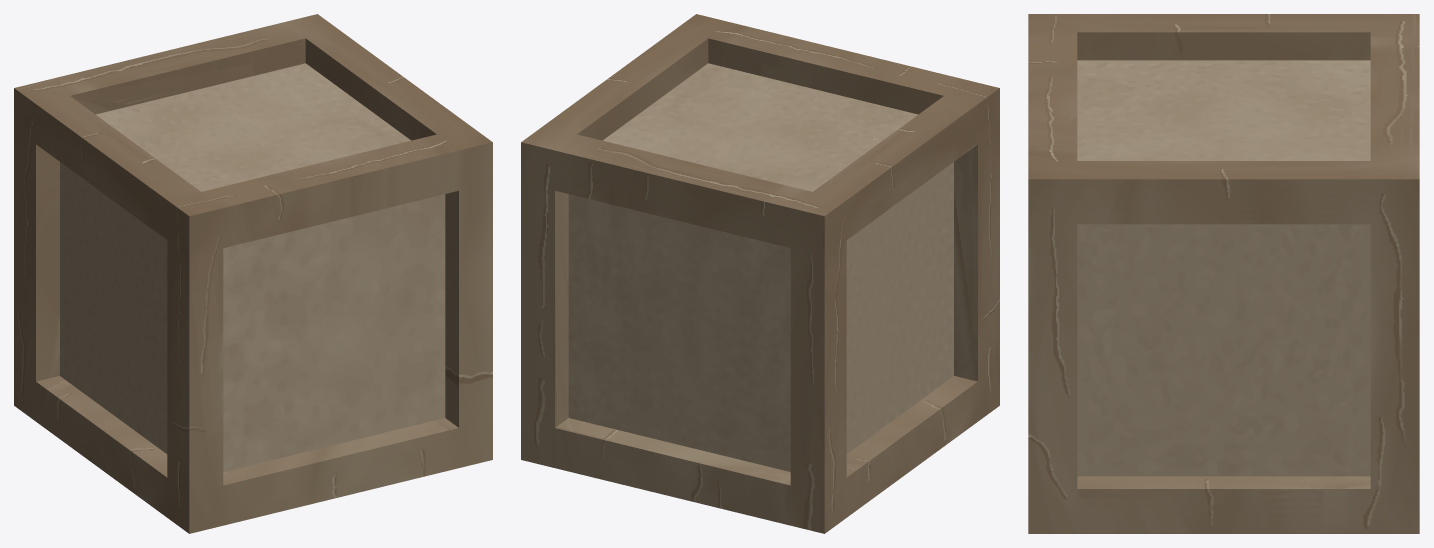
Rendered from chest_1.fbx.
The picture shows the model from 3 angles, left to right: view 1: azimuth 30°, elevation 25°; view 2: azimuth 150°, elevation 25°; view 3: azimuth 270°, elevation 25°; orthographic projection. The views are drawn at different scales.
Visible parts, largest first — view 1: chest; view 2: chest; view 3: chest.
Part boxes in pixels (x1,y1,x2,y2): chest: [14, 14, 492, 533]; chest: [521, 14, 999, 533]; chest: [1028, 14, 1419, 533].
Bounding box in the file's own units: 306 × 306 × 306.
